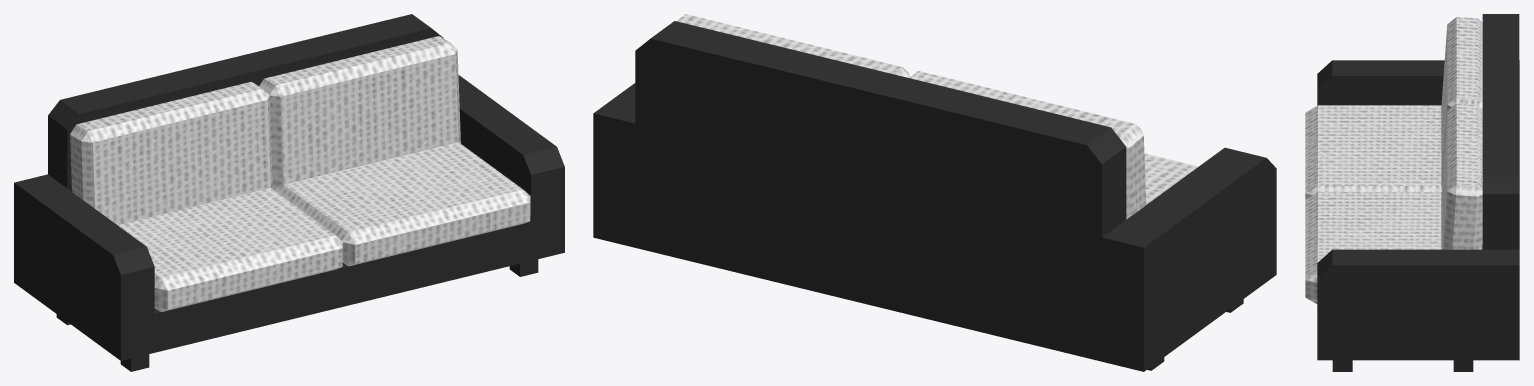
Rendered from couch 2.fbx.
3 renders of one model, left to right at view 1: azimuth 30°, elevation 25°; view 2: azimuth 150°, elevation 25°; view 3: azimuth 270°, elevation 25°, orthographic. The views are drawn at different scales.
Parts seen in each view (by area): view 1: Couch Coushins, Base; view 2: Base, Couch Coushins; view 3: Base, Couch Coushins.
Part boxes in pixels (x1,y1,x2,y2): Couch Coushins: (70,36,530,311); Base: (14,14,564,371); Base: (593,21,1276,371); Couch Coushins: (677,14,1198,219); Base: (1317,14,1519,371); Couch Coushins: (1305,17,1482,303).
Bounding box in the file's own units: 318 × 132 × 140.
Materials: 2 (1 with a texture image).
